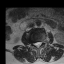CCS_normal: (36, 39, 39, 50)
LFS_normal: (42, 39, 44, 45)
LLS_normal: (39, 39, 41, 47)
RFS_severe_stenosis: (31, 40, 33, 46)
RLS_normal: (33, 39, 36, 49)
